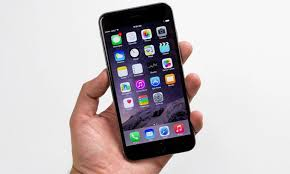iphone: (98, 1, 197, 163)
